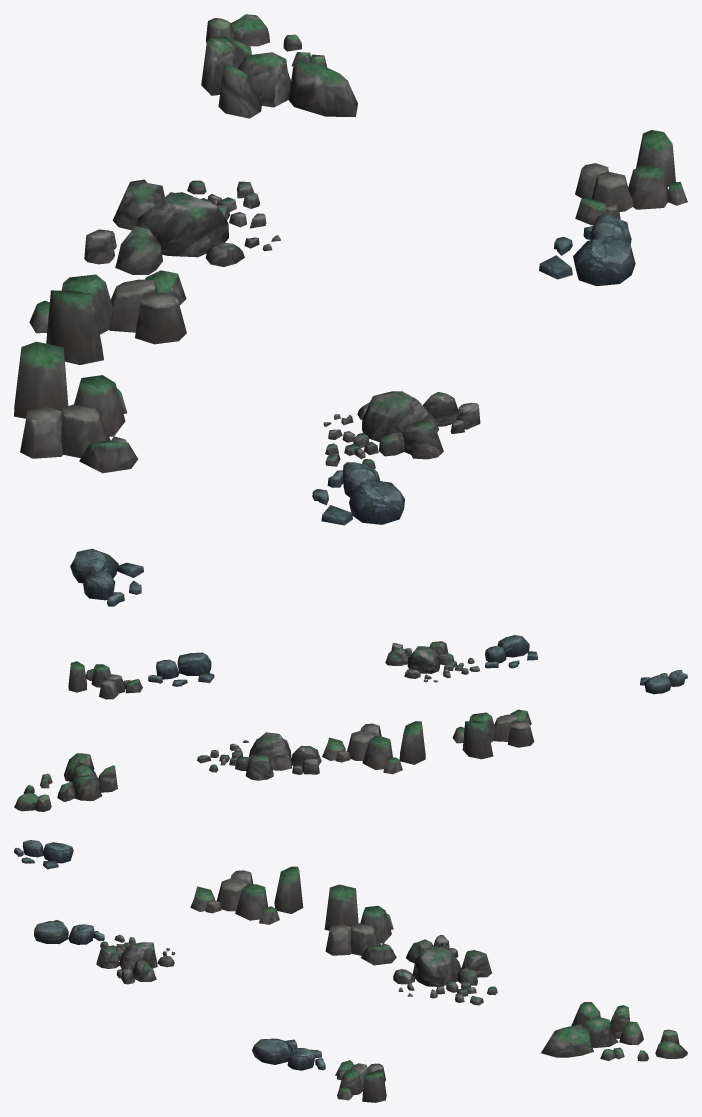
File: Area_13_9.fbx
The picture shows the model from 3 angles, top to bottom: view 1: azimuth 30°, elevation 25°; view 2: azimuth 150°, elevation 25°; view 3: azimuth 270°, elevation 25°; orthographic projection. The views are drawn at different scales.
Parts seen in each view (by area): view 1: Area_13_9; view 2: Area_13_9; view 3: Area_13_9.
Boxes of the visible parts, left/top/right/bottom form: Area_13_9: left=14, top=14, right=687, bottom=606; Area_13_9: left=14, top=635, right=687, bottom=811; Area_13_9: left=14, top=840, right=687, bottom=1102.
Size of the model in its own units: 4583 by 339 by 5182.
